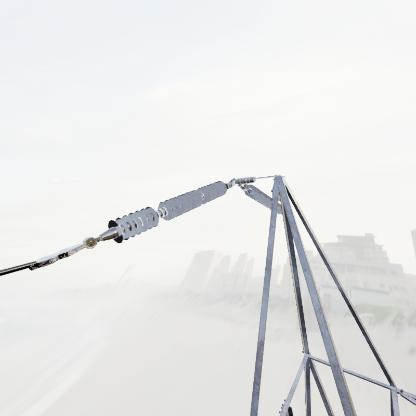insulator: (98, 177, 232, 243), (240, 184, 287, 214)
